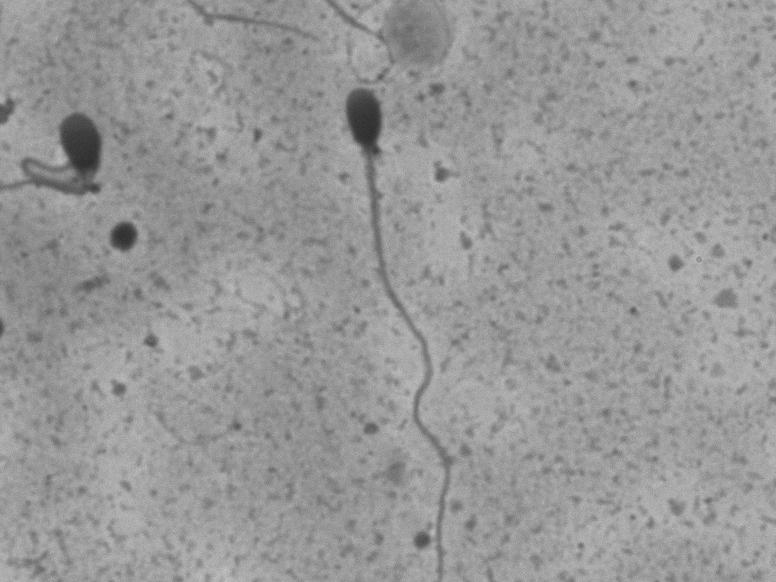Abnormal: (15, 67, 140, 242)
Normal: (307, 80, 477, 561)
